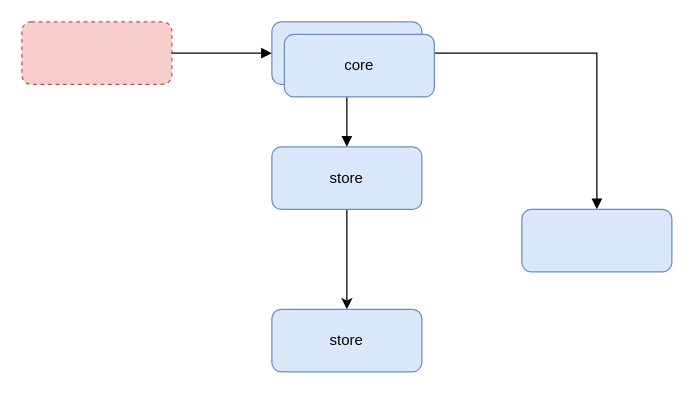
This 694x394 diagram has some shape labels left out. The shapes that lost their labels are listed below. From the top down, each one's box as (x1, y1, x2, y2) in pixels, then its label:
(21, 21, 172, 84): app
(521, 208, 672, 272): utility helpers
